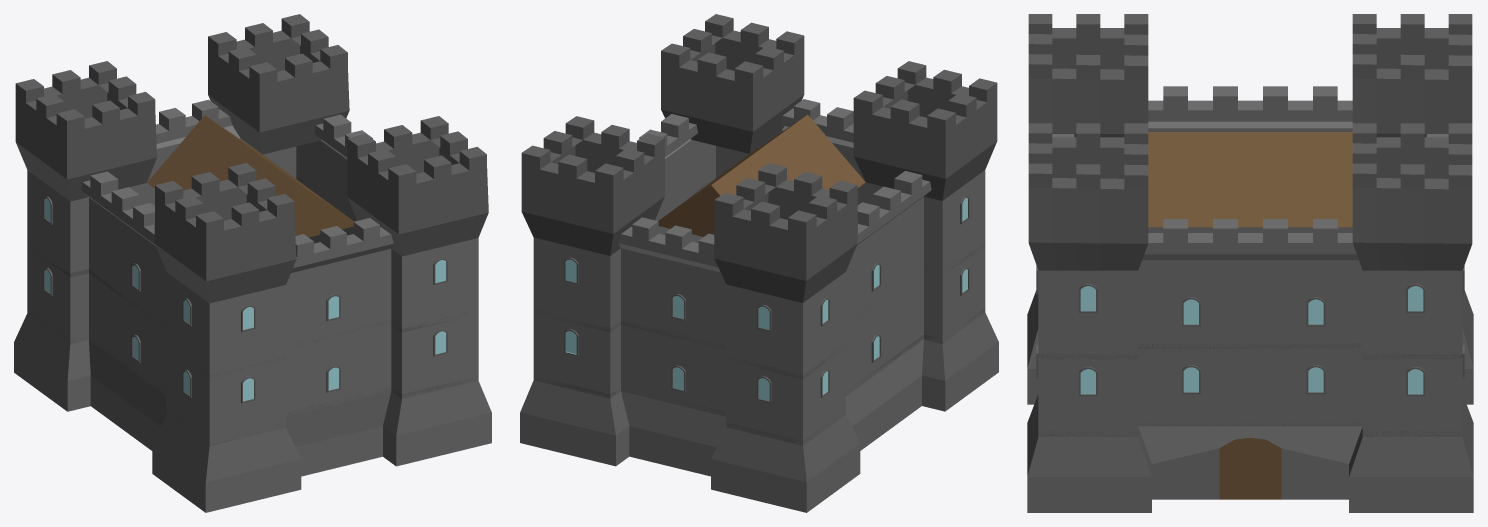
File: Keep.fbx
3 renders of one model, left to right at view 1: azimuth 30°, elevation 25°; view 2: azimuth 150°, elevation 25°; view 3: azimuth 270°, elevation 25°, orthographic. The views are drawn at different scales.
Parts seen in each view (by area): view 1: Castle_LOD0; view 2: Castle_LOD0; view 3: Castle_LOD0.
Boxes of the visible parts, x1=… form: Castle_LOD0: x1=14, y1=14, x2=491, y2=512; Castle_LOD0: x1=520, y1=14, x2=998, y2=512; Castle_LOD0: x1=1027, y1=14, x2=1473, y2=512.
Size of what is drawn, in the model's own units: 3085 by 2982 by 3580.
